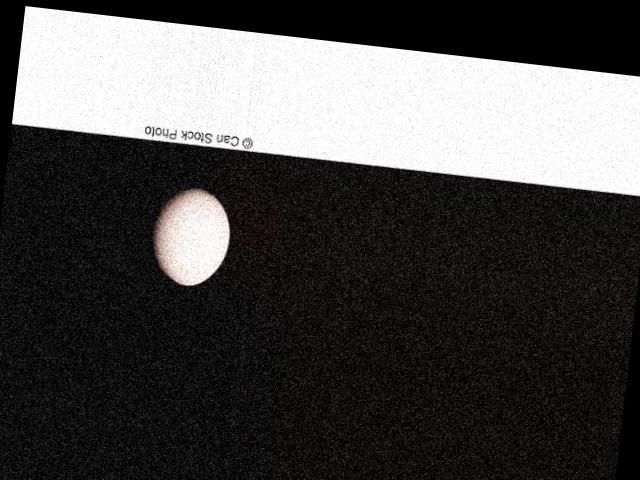egg: (148, 182, 234, 289)
